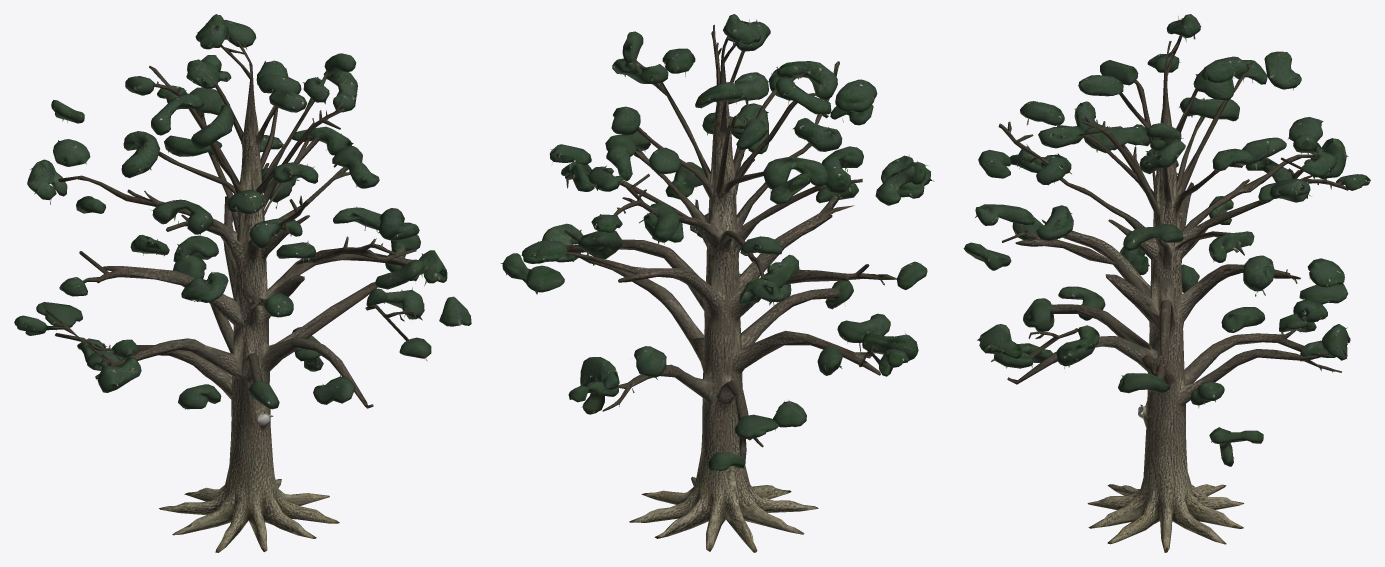
File: tree_a.glb
3 renders of one model, left to right at view 1: azimuth 30°, elevation 25°; view 2: azimuth 150°, elevation 25°; view 3: azimuth 270°, elevation 25°, orthographic. The views are drawn at different scales.
Parts seen in each view (by area): view 1: tripo_node_095deb8e-68e2-4bc3-b976-634eabecf003; view 2: tripo_node_095deb8e-68e2-4bc3-b976-634eabecf003; view 3: tripo_node_095deb8e-68e2-4bc3-b976-634eabecf003.
Part boxes in pixels (x1,y1,x2,y2): tripo_node_095deb8e-68e2-4bc3-b976-634eabecf003: (14, 14, 471, 552); tripo_node_095deb8e-68e2-4bc3-b976-634eabecf003: (500, 14, 934, 552); tripo_node_095deb8e-68e2-4bc3-b976-634eabecf003: (963, 14, 1370, 552).
Size of the model in its own units: 0.8146 by 0.9795 by 0.7355.
Materials: 1 (1 with a texture image).
